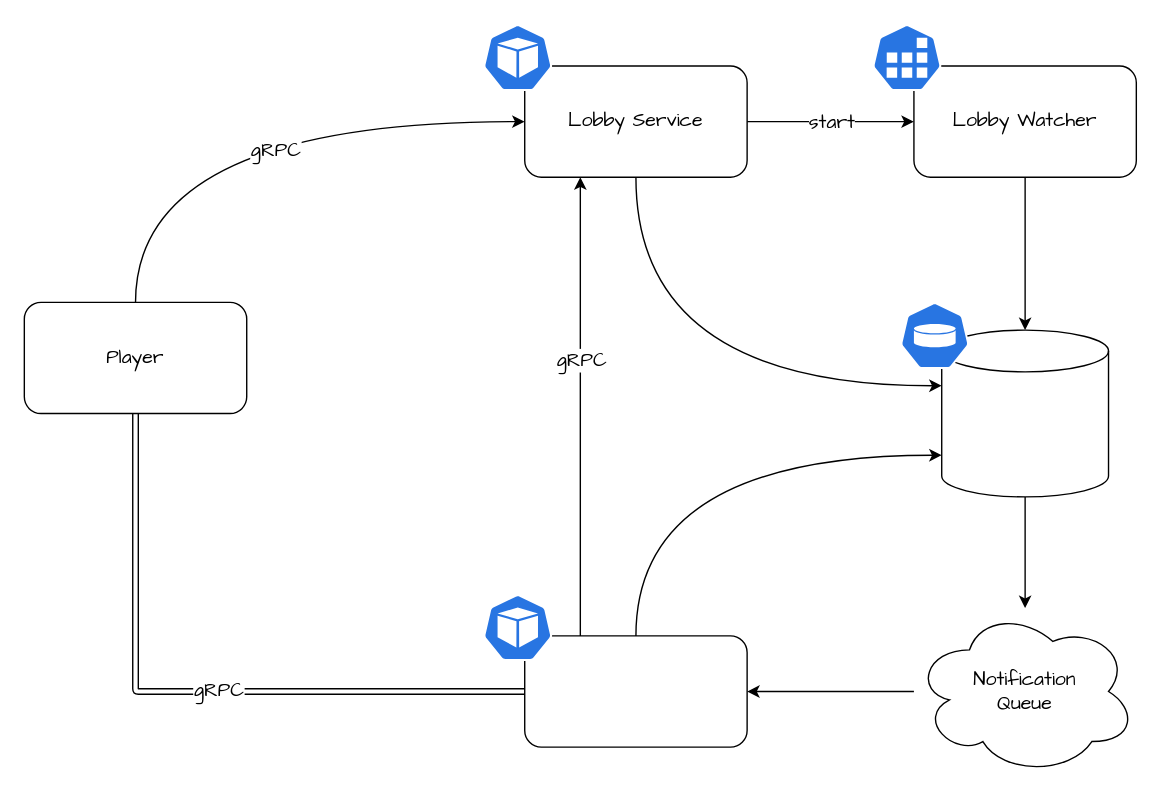
The diagram is 1161 pixels wide and 799 high, and some of its shapes have lost their labels. Each missing label, with the centre of its shape:
"Event Log" goes at [1024,413].
"Game Service" goes at [635,691].
